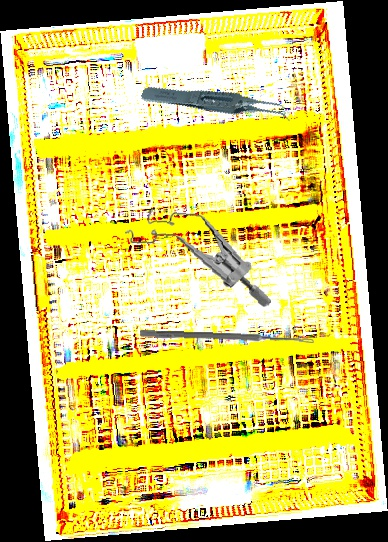Speculum: (117, 203, 280, 309)
Surgical Spoon: (139, 329, 315, 345)
Tissue Forceps: (139, 57, 295, 153)
